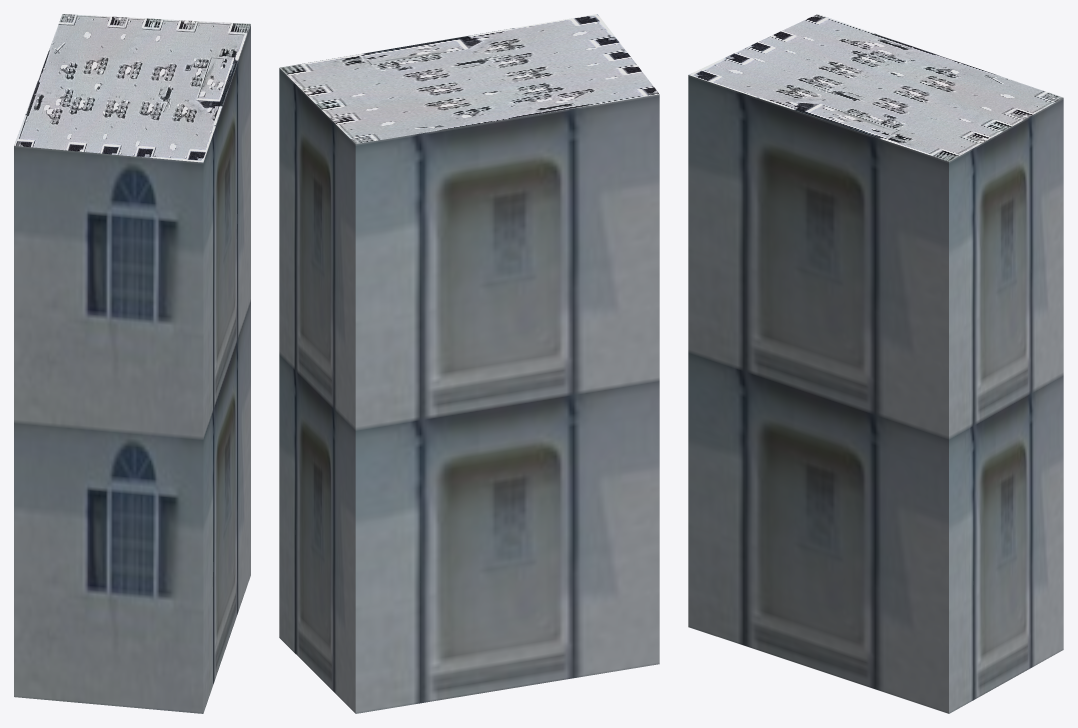
The model's file is ResTex__1193.fbx.
3 views of the same model, side by side, from view 1: azimuth 30°, elevation 25°; view 2: azimuth 150°, elevation 25°; view 3: azimuth 270°, elevation 25° (orthographic). The views are drawn at different scales.
Parts seen in each view (by area): view 1: CityEngineMaterial_17_m, CityEngineMaterial_8_m; view 2: CityEngineMaterial_17_m, CityEngineMaterial_8_m; view 3: CityEngineMaterial_17_m, CityEngineMaterial_8_m.
Boxes of the visible parts, <box> form: CityEngineMaterial_17_m: <box>14,24,250,713</box>; CityEngineMaterial_8_m: <box>14,14,250,162</box>; CityEngineMaterial_17_m: <box>279,68,659,713</box>; CityEngineMaterial_8_m: <box>279,14,659,143</box>; CityEngineMaterial_17_m: <box>688,75,1063,713</box>; CityEngineMaterial_8_m: <box>688,14,1063,161</box>.
Size of the model in its own units: 3.45 by 6 by 3.7.
2 materials, 2 textured.
